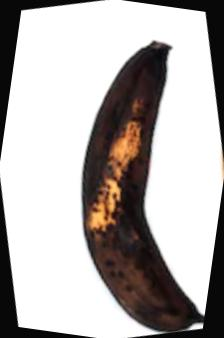Banana Overripe: (32, 13, 224, 338)
